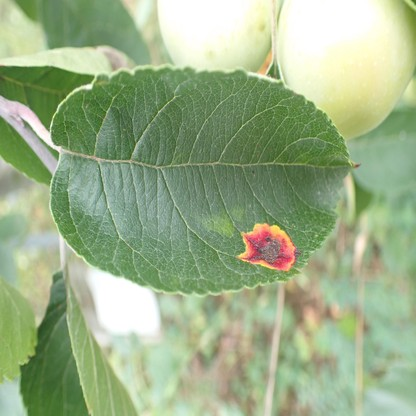rust: (236, 223, 294, 269)
